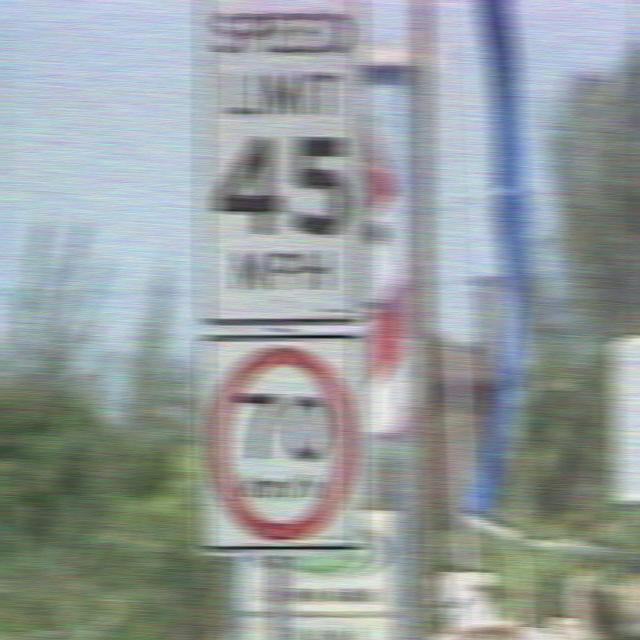speedLimit45: (202, 6, 365, 322)
